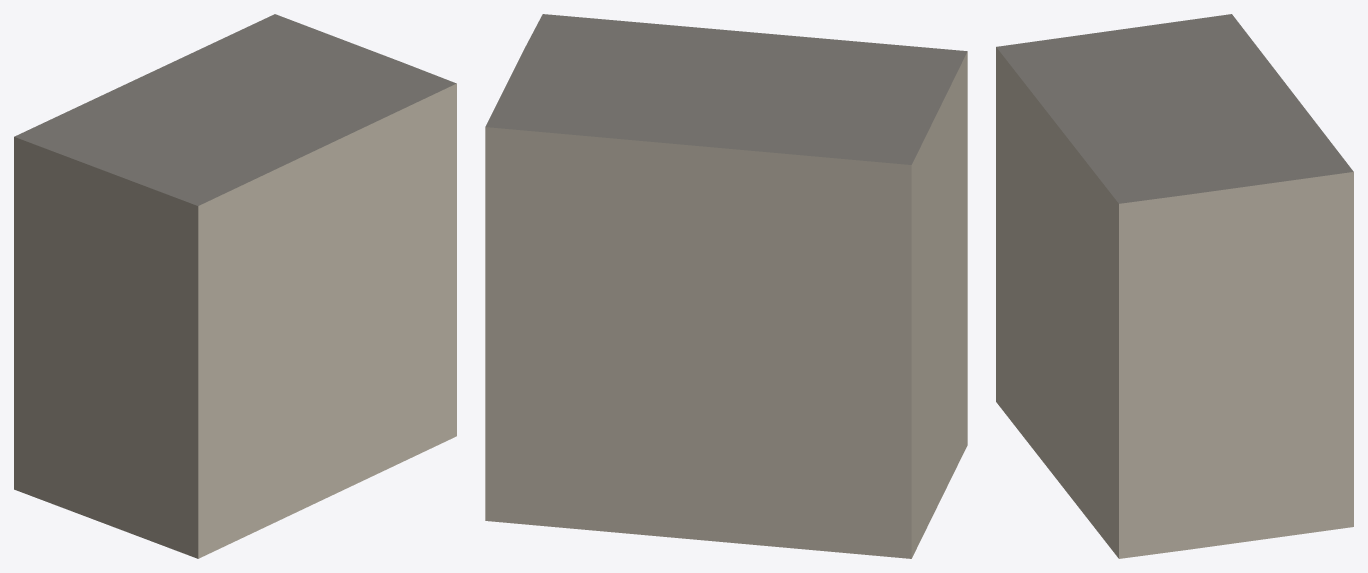
The picture shows the model from 3 angles, left to right: view 1: azimuth 30°, elevation 25°; view 2: azimuth 150°, elevation 25°; view 3: azimuth 270°, elevation 25°; orthographic projection. The views are drawn at different scales.
Parts seen in each view (by area): view 1: HP-w389702014; view 2: HP-w389702014; view 3: HP-w389702014.
Part boxes in pixels (<box>): HP-w389702014: <box>14,14,456,558</box>; HP-w389702014: <box>485,14,967,558</box>; HP-w389702014: <box>996,14,1353,558</box>.
Bounding box in the file's own units: 20.64 × 18 × 16.43.
